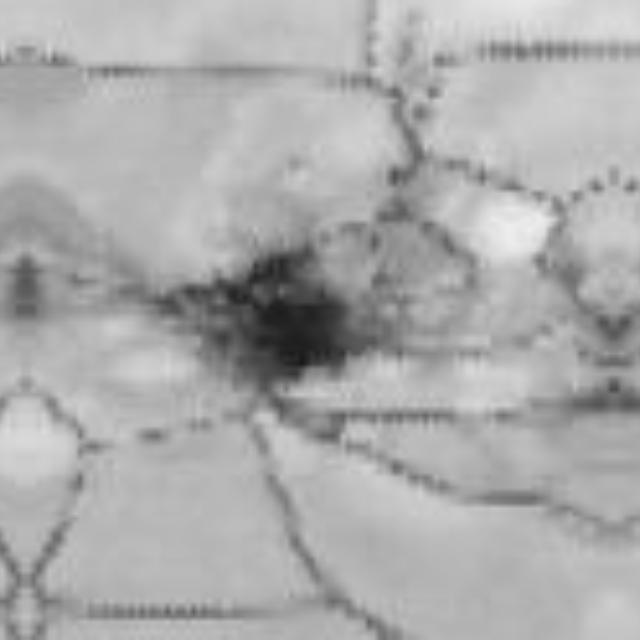good_void: (147, 247, 401, 399)
